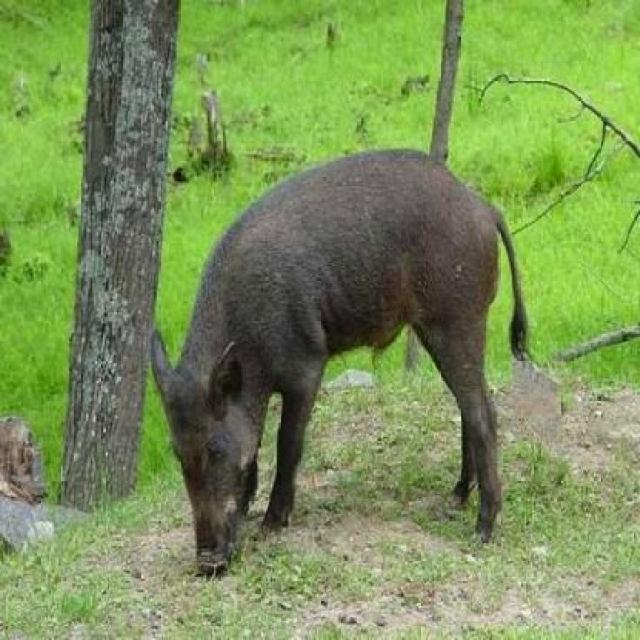Boar: (169, 121, 565, 577)
